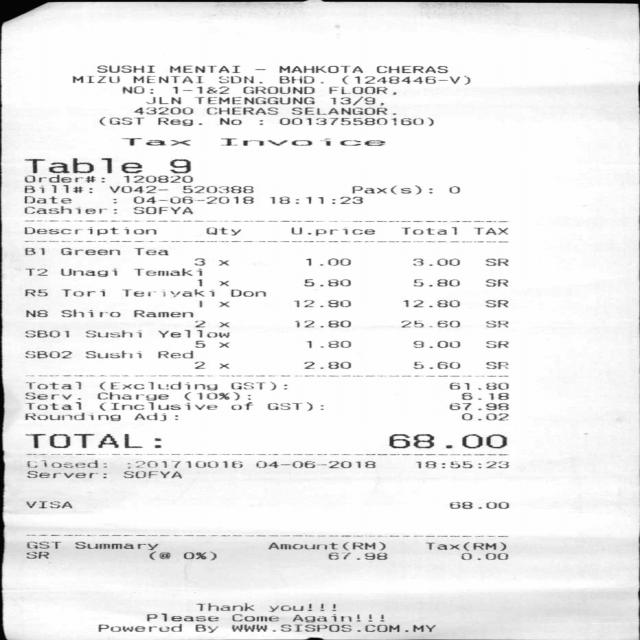text: (99, 381, 275, 392), (385, 434, 505, 449), (23, 158, 140, 173), (24, 434, 144, 448), (230, 624, 434, 632), (278, 117, 432, 126), (219, 138, 383, 146), (22, 227, 157, 236), (342, 75, 469, 84), (99, 402, 216, 411), (268, 541, 384, 550), (127, 459, 240, 468), (254, 460, 374, 468), (22, 412, 118, 421), (288, 226, 373, 236), (290, 107, 395, 115), (133, 196, 252, 203), (195, 97, 313, 104), (98, 623, 180, 632), (121, 288, 213, 296), (291, 614, 383, 622), (350, 185, 431, 194), (270, 196, 361, 204), (96, 391, 168, 401), (413, 461, 508, 468), (278, 65, 360, 73), (74, 542, 156, 550), (424, 542, 504, 550), (206, 106, 277, 115), (26, 460, 105, 468), (22, 184, 91, 193), (183, 391, 250, 400), (329, 86, 395, 95), (268, 603, 334, 612), (156, 330, 229, 338), (24, 206, 107, 213), (374, 65, 446, 73), (180, 185, 251, 193), (146, 613, 217, 621), (168, 65, 238, 73), (243, 86, 313, 94), (23, 175, 103, 182), (122, 175, 192, 183), (133, 75, 202, 83), (131, 106, 192, 115), (121, 138, 189, 146), (133, 268, 201, 276), (108, 185, 166, 194), (131, 310, 196, 318), (26, 471, 100, 478), (267, 402, 323, 411), (60, 268, 115, 277), (58, 247, 119, 255), (328, 96, 382, 105), (401, 226, 455, 235), (59, 309, 118, 317), (121, 470, 180, 478), (449, 501, 508, 509), (328, 552, 386, 560), (95, 65, 152, 73), (24, 381, 81, 389), (450, 382, 507, 390), (195, 603, 252, 611), (172, 86, 228, 94), (24, 402, 80, 410), (85, 330, 140, 338), (85, 350, 140, 358), (133, 207, 192, 214), (449, 403, 508, 410), (401, 320, 459, 327), (98, 116, 143, 125), (293, 300, 350, 307), (402, 300, 459, 307), (294, 362, 351, 369), (156, 117, 200, 126), (294, 320, 350, 327), (24, 392, 80, 399), (411, 258, 458, 266), (411, 340, 458, 348), (23, 350, 70, 358), (411, 361, 458, 369), (72, 75, 118, 83), (303, 278, 349, 286), (461, 392, 507, 400), (461, 413, 507, 421), (231, 614, 277, 622), (59, 289, 104, 297), (217, 76, 261, 84), (306, 258, 350, 266), (23, 330, 67, 338), (306, 340, 350, 348), (279, 76, 322, 84), (134, 413, 177, 421), (204, 226, 238, 236), (22, 196, 69, 203), (411, 279, 458, 286), (460, 553, 507, 560), (24, 501, 70, 508), (169, 158, 189, 174), (156, 349, 191, 358), (473, 227, 506, 236), (182, 551, 215, 560), (144, 96, 179, 104), (25, 541, 60, 549), (120, 85, 151, 94), (134, 247, 167, 255), (231, 289, 264, 297), (23, 309, 47, 317), (195, 624, 216, 633), (23, 268, 46, 276), (149, 551, 169, 560), (485, 258, 507, 266), (485, 340, 507, 348), (485, 361, 507, 369), (229, 402, 251, 410), (26, 550, 48, 558), (219, 117, 240, 125), (23, 289, 46, 296), (484, 300, 507, 307), (485, 279, 507, 286), (485, 320, 507, 327), (25, 247, 43, 255), (215, 257, 227, 268), (192, 320, 206, 327), (192, 258, 204, 266), (192, 361, 204, 369), (217, 321, 229, 327), (448, 186, 458, 193), (194, 340, 204, 347), (217, 301, 227, 307), (217, 363, 227, 369), (217, 342, 227, 347), (218, 281, 226, 286), (197, 279, 200, 286), (199, 300, 201, 307)
